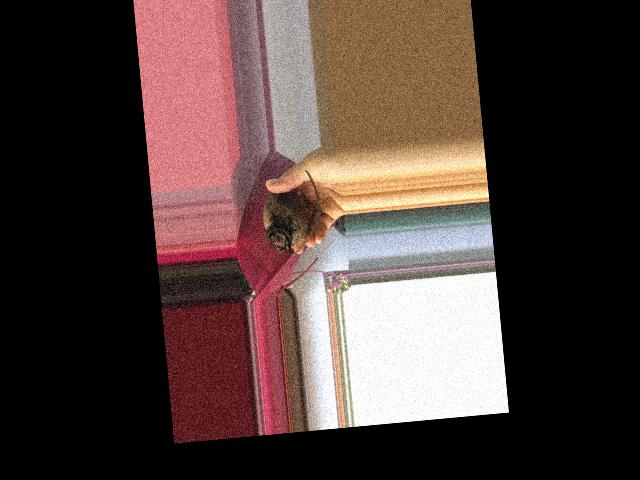beet: (259, 169, 324, 259)
